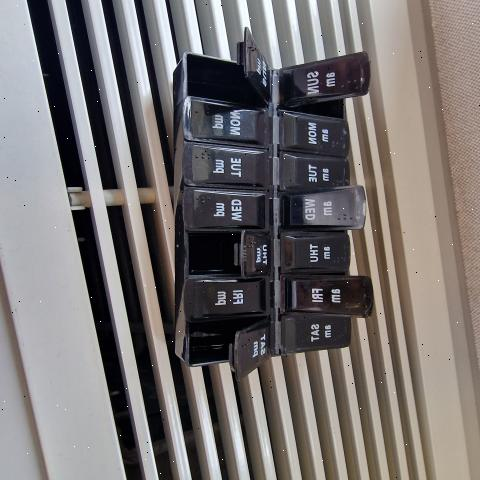Open: (190, 311, 271, 378), (187, 54, 266, 105), (180, 231, 240, 277), (285, 99, 344, 121)
